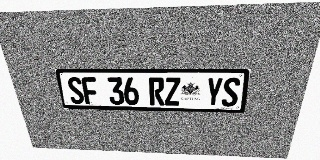3: (107, 77, 125, 105)
6: (122, 77, 139, 105)
F: (81, 77, 99, 104)
R: (149, 77, 164, 105)
S: (221, 78, 241, 107), (66, 77, 85, 104)
Y: (205, 77, 223, 106)
Z: (165, 77, 180, 106)
